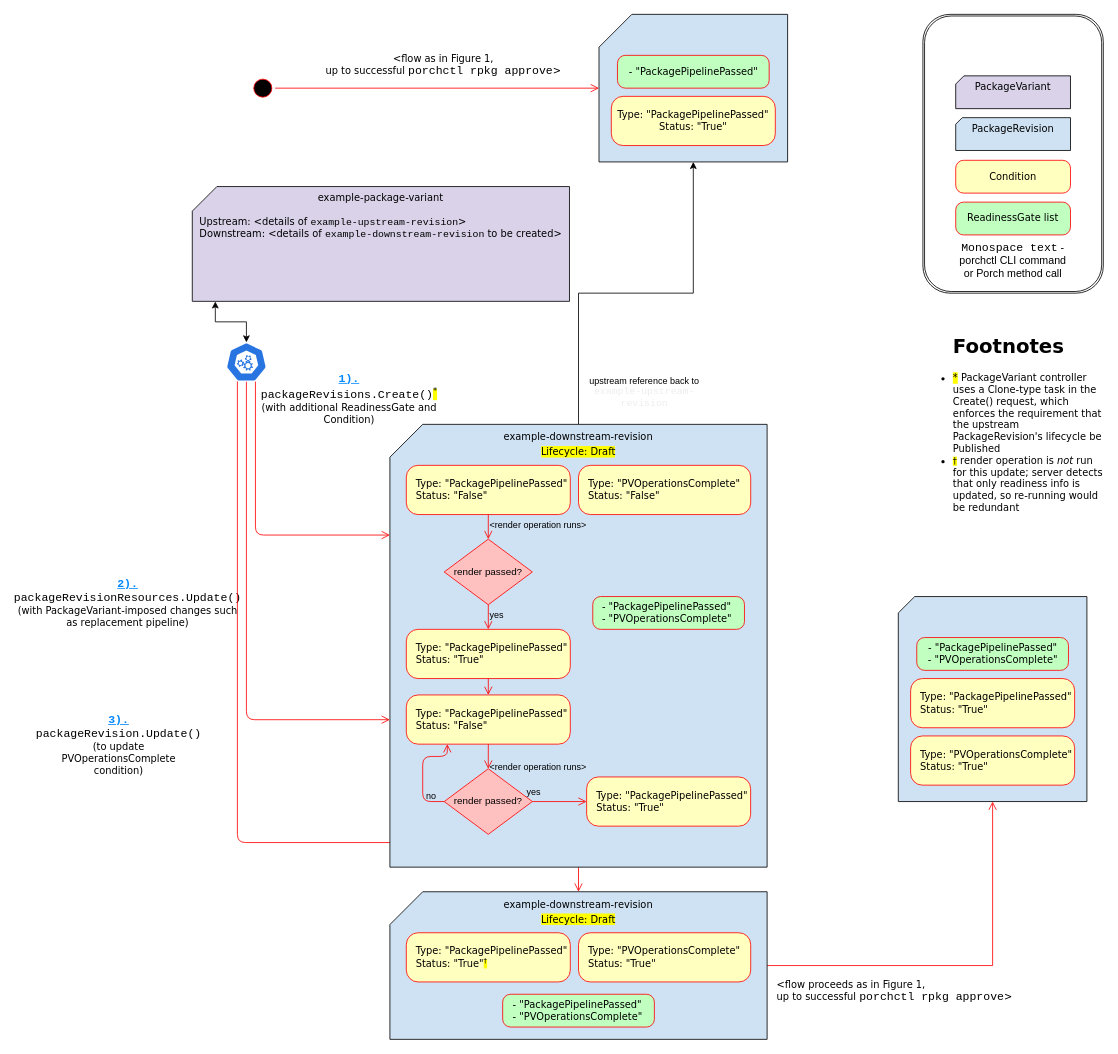
Some shapes in this 1118 by 1054 pixel diagram are drawn without their labels. The shapes that lost their labels are listed below. From the top down, each one's box as (x1, y1, x2, y2) in pixels, then its label:
(598, 14, 788, 162): example-upstream-revision Lifecycle: Published
(922, 14, 1103, 293): Legend
(225, 342, 267, 382): PackageVariant controller
(897, 596, 1087, 802): example-downstream-revision Lifecycle: Published
